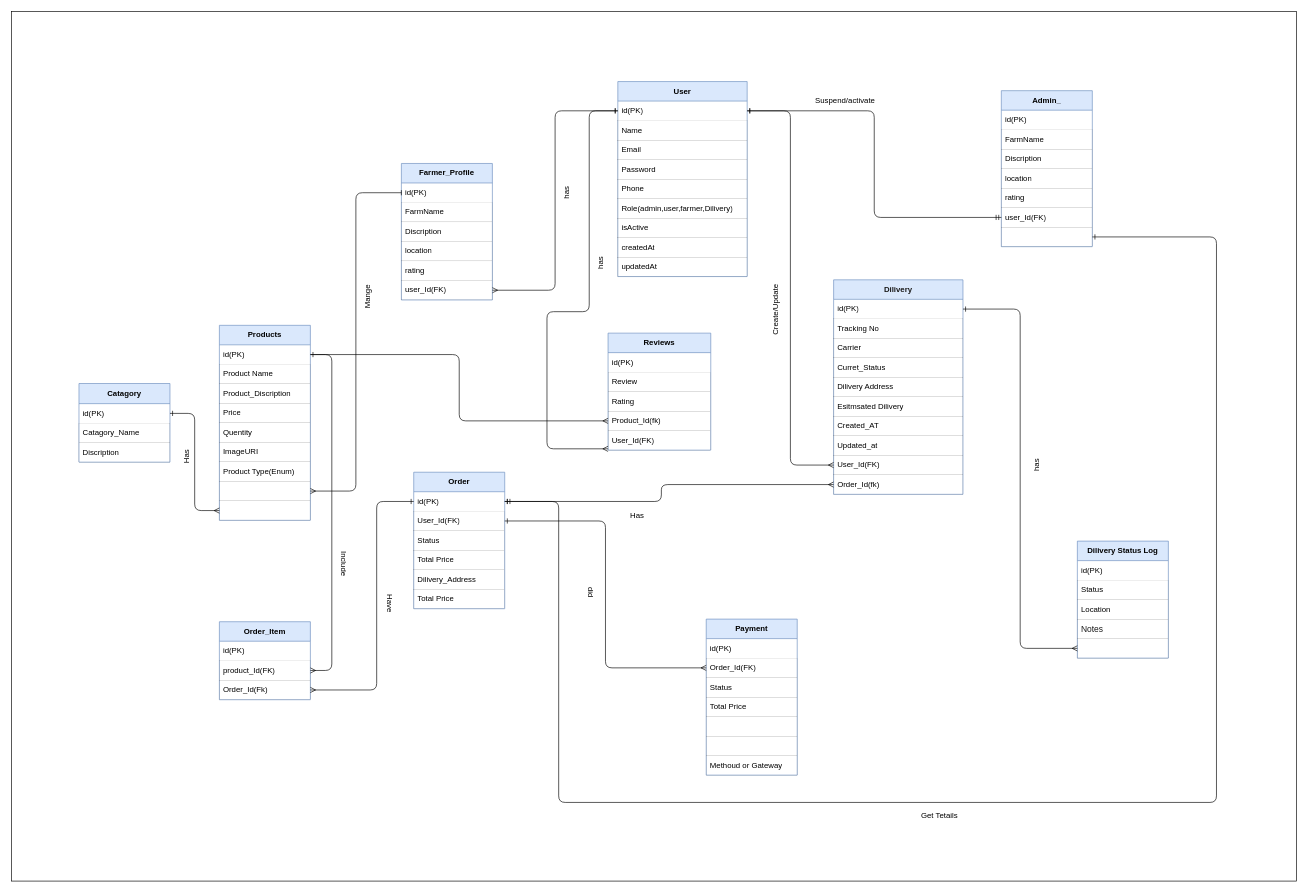
Some shapes in this 1308 by 892 pixel diagram are drawn without their labels. The centre of each missing label's shape, as x and y in pixels:
"Catagory_Id(FK)" belongs at pixel 264 510.
"Dilivery_Id(FK)" belongs at pixel 1122 648.
"Farmer_Id(FK)" belongs at pixel 264 490.
"Tracking _OrdersFK)" belongs at pixel 1046 236.
